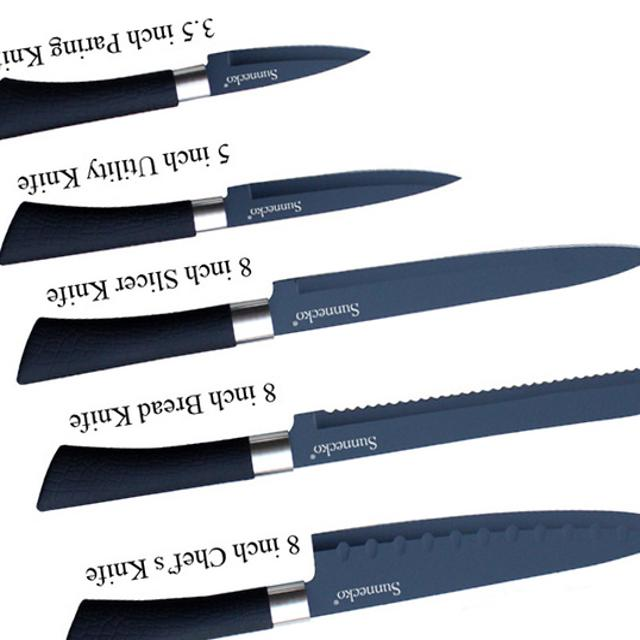knife: (19, 243, 639, 390), (4, 168, 464, 263)
